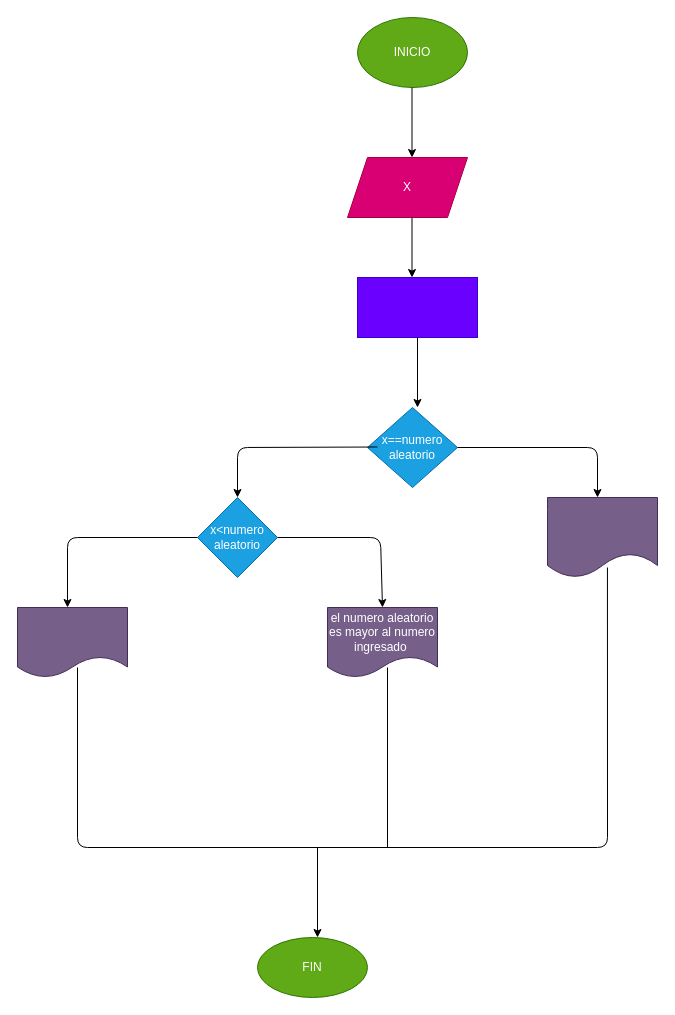
This 675x1015 diagram has some shape labels left out. Each missing label, with the centre of its shape:
"adivinaste el nuero" belongs at (x=602, y=537).
"el numero aleatorio es menor al numero ingresado" belongs at (x=72, y=642).
"Numero aleatorio" belongs at (x=417, y=307).
